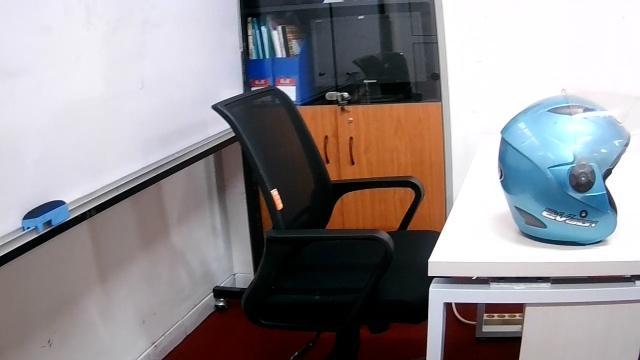Kursi: (211, 86, 441, 359)
Meja: (419, 141, 638, 359)
Whiteboard: (0, 0, 245, 262)
